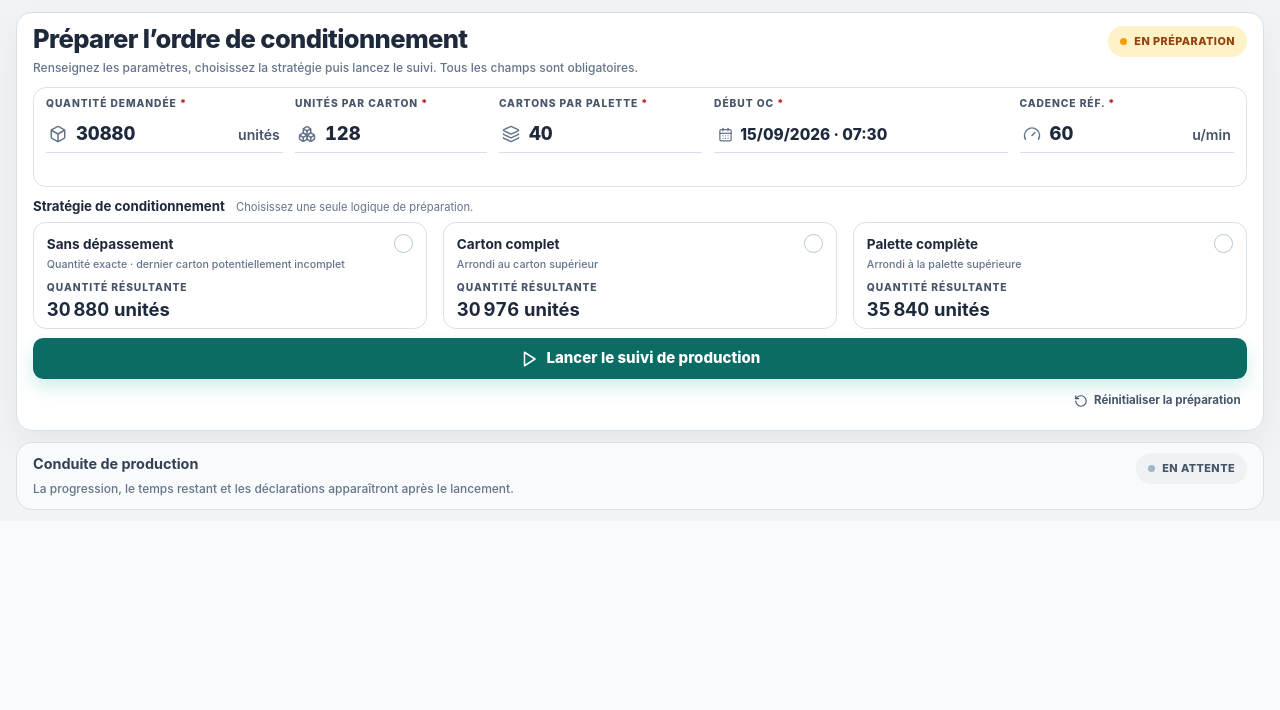
Test case: Packing confirmation hardening › releases the launch lock after a successful run and return to preparation
Click the radio button labelled "Carton complet".
click(508, 244)  # box x1=443 y1=222 x2=837 y2=329
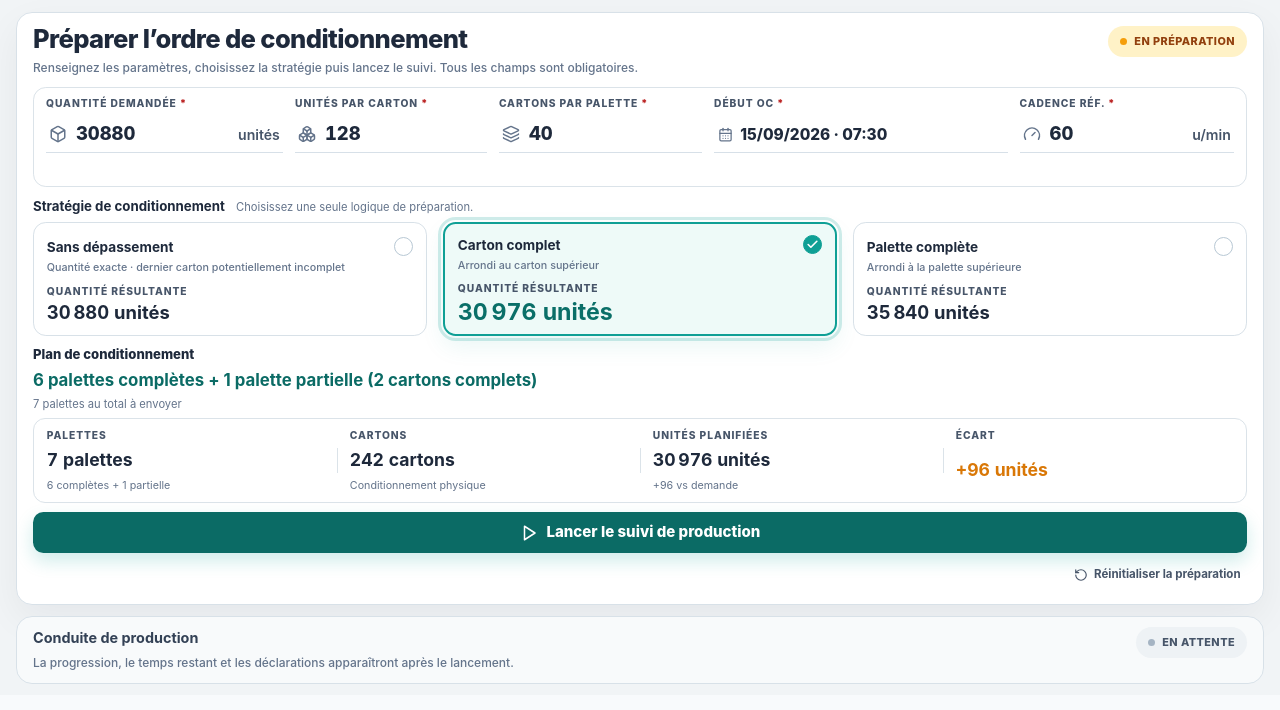
Click the button "Lancer le suivi de production".
click(640, 533)  # box x1=33 y1=512 x2=1247 y2=553
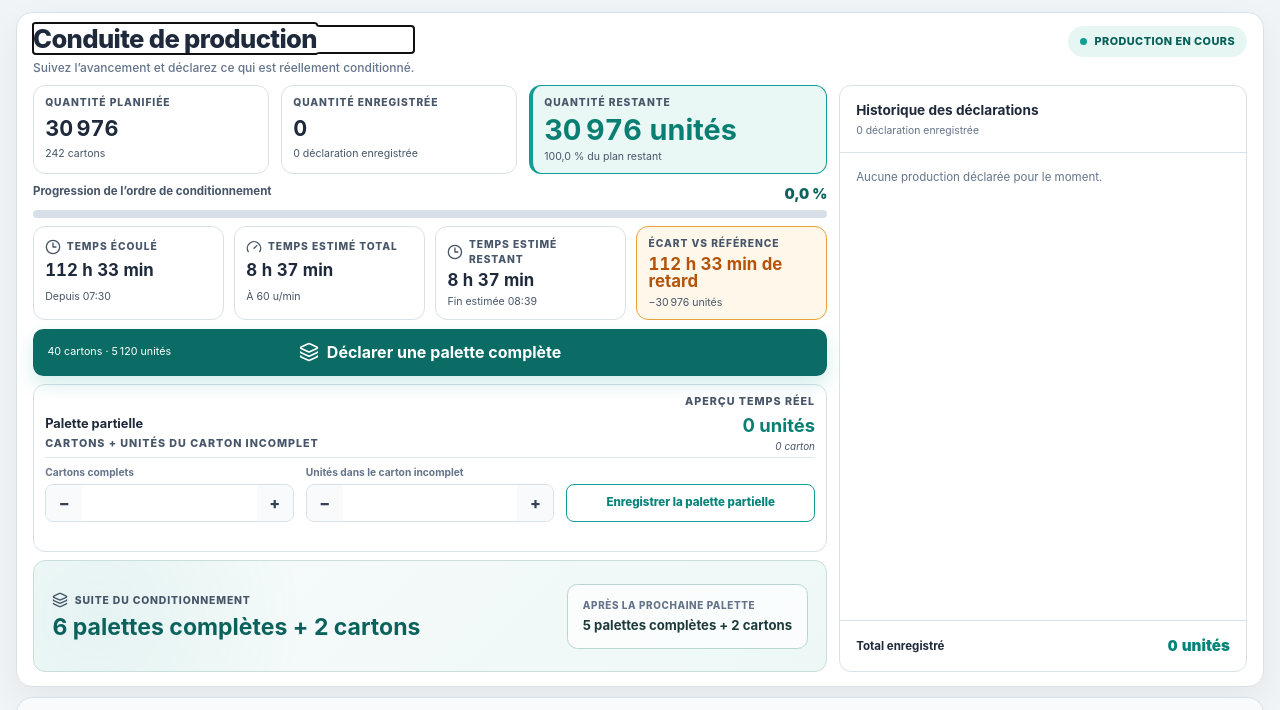
Expected: the heading "Conduite de production" is shown, x1=33 y1=23 x2=317 y2=54
Click the button "40 cartons · 5 120 unités Déclarer une palette complète".
click(430, 352)  # box x1=33 y1=329 x2=827 y2=376
(page scrolled)
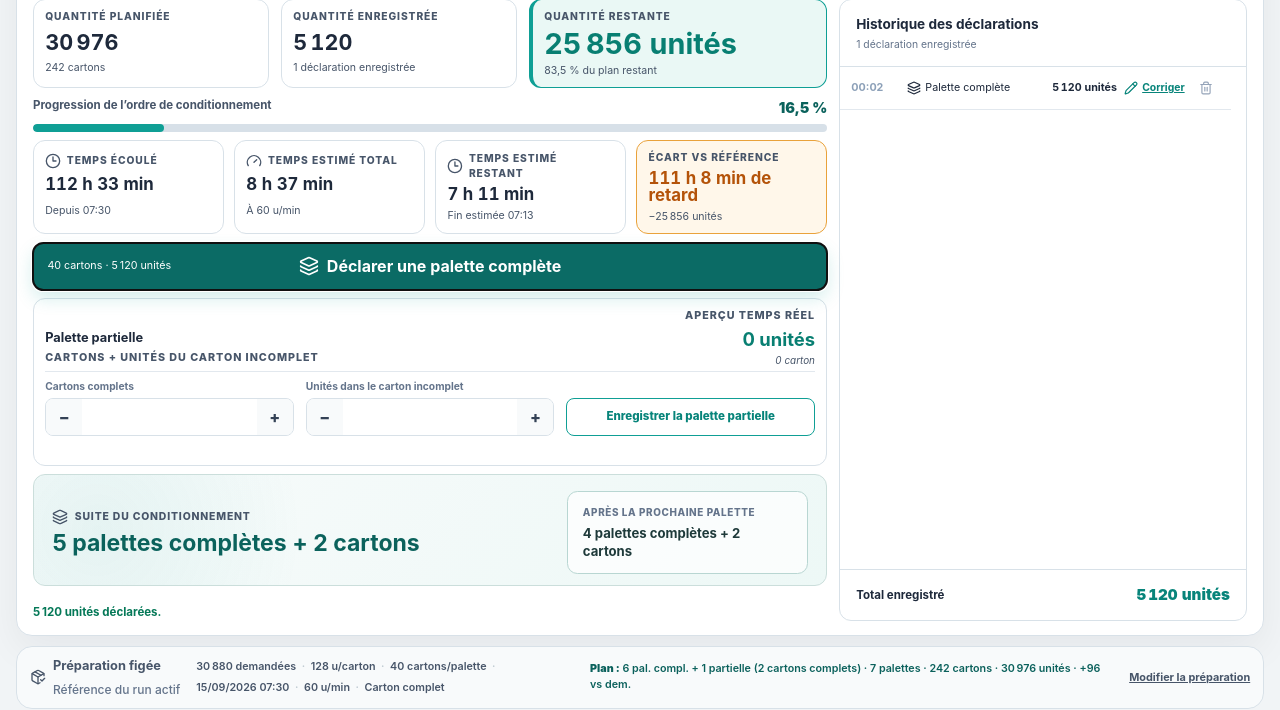
Click the button "Modifier la préparation".
click(1190, 677)  # box x1=1129 y1=669 x2=1250 y2=686
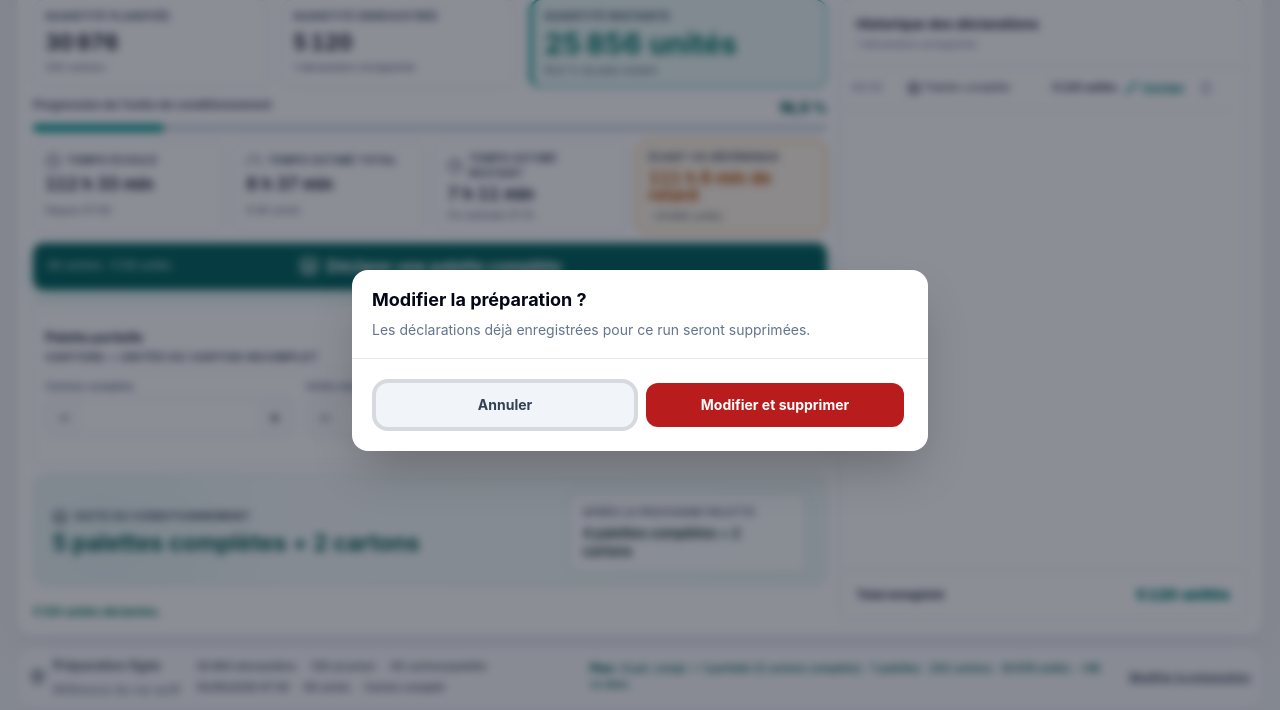
Click the button "Modifier et supprimer".
click(775, 404)  # box x1=646 y1=382 x2=904 y2=426
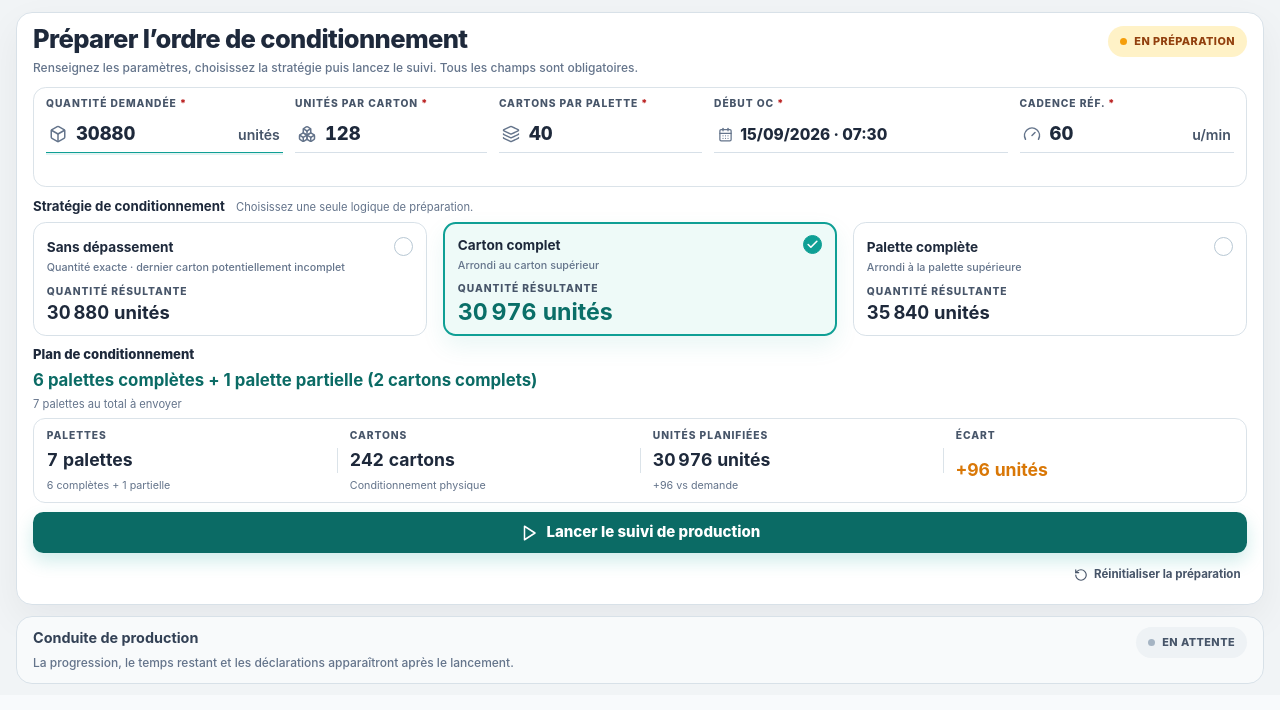
Expected: the button "Lancer le suivi de production" is enabled, x1=33 y1=512 x2=1247 y2=553
Expected: the button "Réinitialiser la préparation" is enabled, x1=1068 y1=559 x2=1247 y2=591
